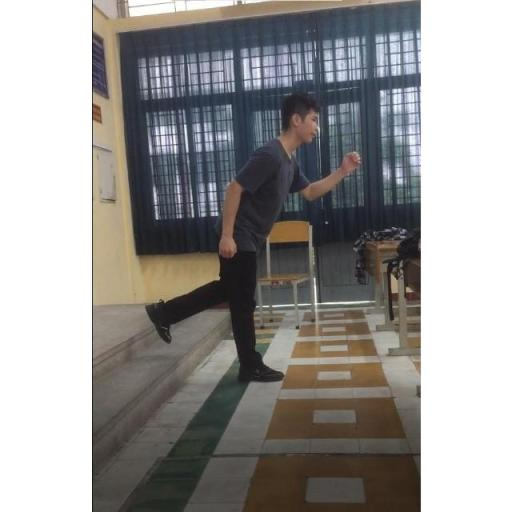Running: (134, 83, 360, 388)
